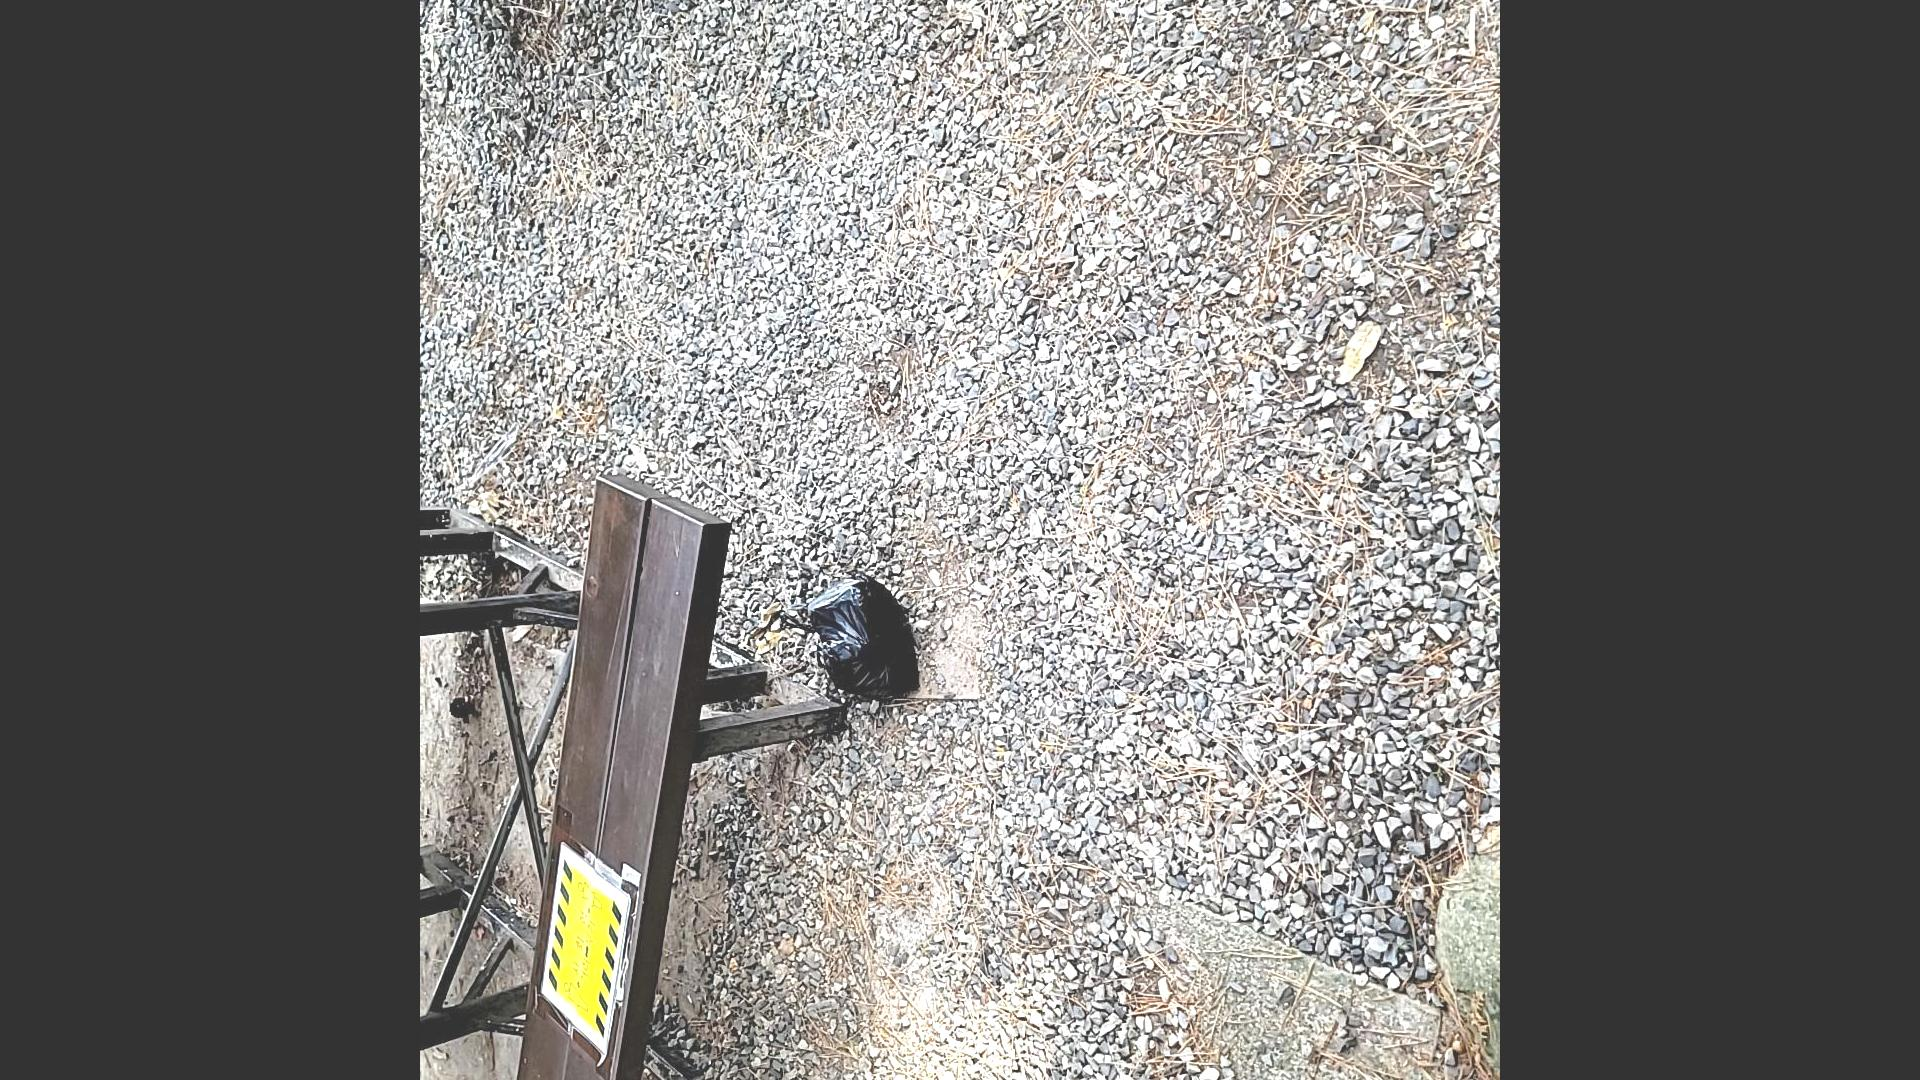black_bag: (785, 574, 923, 709)
